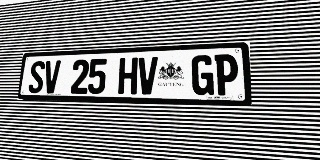2: (71, 59, 89, 94)
5: (88, 58, 107, 94)
G: (191, 55, 214, 95)
H: (118, 57, 138, 94)
P: (214, 54, 238, 95)
S: (28, 61, 45, 93)
V: (137, 57, 158, 95), (43, 60, 61, 93)
